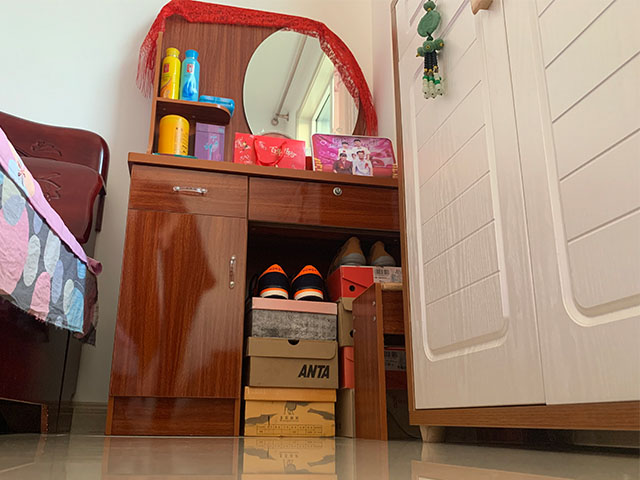bed: (1, 110, 111, 436)
cabinet: (388, 1, 640, 444)
table: (121, 149, 400, 440)
